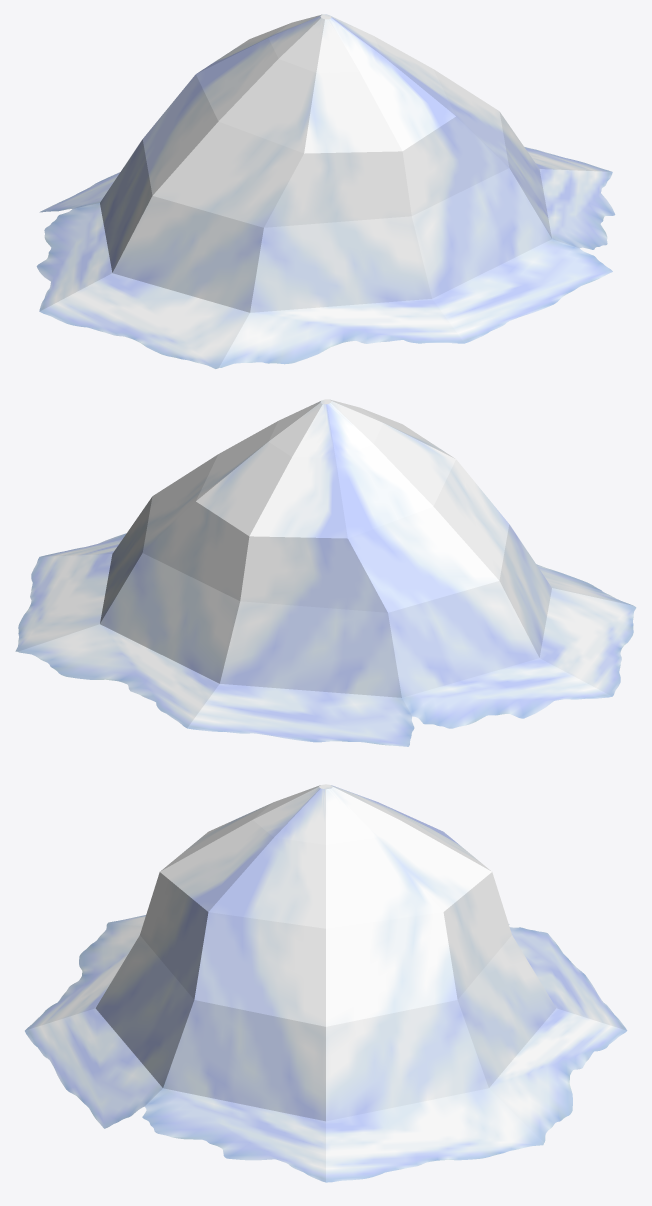
Rendered from Poly_World_Map_Pile_Of_Sand_01_Snow.obj.
3 renders of one model, top to bottom at view 1: azimuth 30°, elevation 25°; view 2: azimuth 150°, elevation 25°; view 3: azimuth 270°, elevation 25°, orthographic. The views are drawn at different scales.
Visible parts, largest first — view 1: Grid.001; view 2: Grid.001; view 3: Grid.001.
Part boxes in pixels (x1,y1,x2,y2): Grid.001: (36,14,615,368); Grid.001: (15,399,636,746); Grid.001: (25,784,627,1182).
Bounding box in the file's own units: 1.2 × 0.4411 × 1.01.
Materials: 1 (1 with a texture image).
